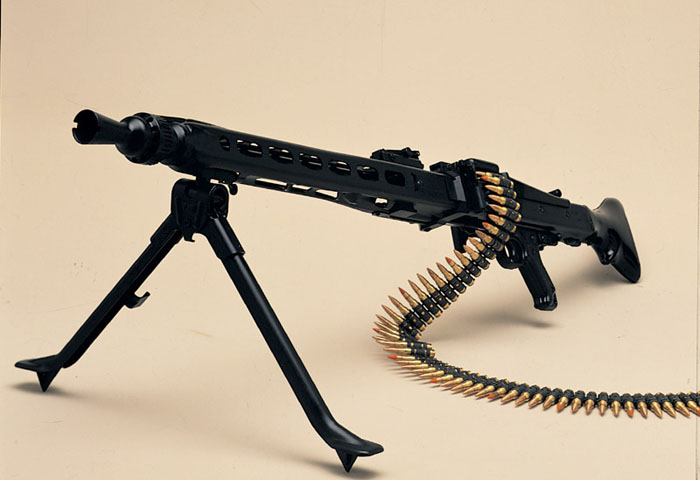rifle: (34, 85, 675, 472)
